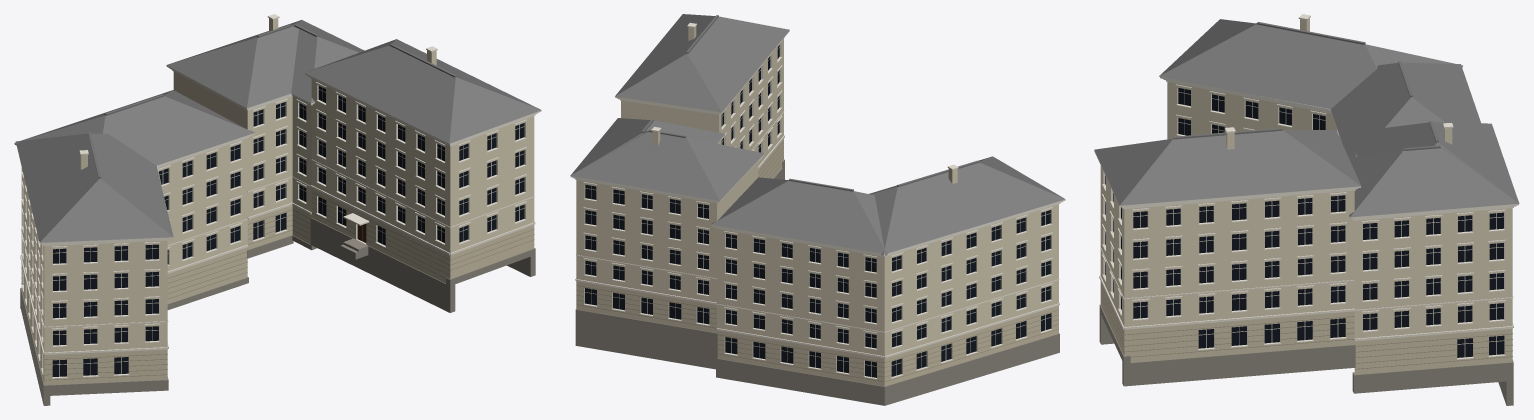
The model's file is suvorova27.glb.
3 renders of one model, left to right at view 1: azimuth 30°, elevation 25°; view 2: azimuth 150°, elevation 25°; view 3: azimuth 270°, elevation 25°, orthographic. The views are drawn at different scales.
Visible parts, largest first — view 1: suvorova27_wall, suvorova27_roof, suvorova27_trim, suvorova27_glass, suvorova27_wall2, suvorova27_stone, suvorova27_wall3; view 2: suvorova27_wall, suvorova27_roof, suvorova27_glass, suvorova27_trim, suvorova27_stone, suvorova27_wall2, suvorova27_wall3; view 3: suvorova27_roof, suvorova27_wall, suvorova27_glass, suvorova27_trim, suvorova27_wall2, suvorova27_stone, suvorova27_wall3.
Part boxes in pixels (<box>): suvorova27_wall: <box>21,18,534,352</box>; suvorova27_roof: <box>14,20,541,242</box>; suvorova27_trim: <box>14,14,541,378</box>; suvorova27_glass: <box>52,86,524,376</box>; suvorova27_wall2: <box>21,188,534,385</box>; suvorova27_stone: <box>20,217,535,405</box>; suvorova27_wall3: <box>21,192,534,380</box>; suvorova27_wall: <box>576,26,1058,356</box>; suvorova27_roof: <box>570,14,1065,254</box>; suvorova27_glass: <box>585,45,1050,377</box>; suvorova27_trim: <box>570,23,1065,379</box>; suvorova27_stone: <box>575,159,1059,405</box>; suvorova27_wall2: <box>576,139,1058,386</box>; suvorova27_wall3: <box>576,142,1058,381</box>; suvorova27_roof: <box>1094,19,1519,217</box>; suvorova27_wall: <box>1100,18,1512,338</box>; suvorova27_glass: <box>1105,88,1504,357</box>; suvorova27_trim: <box>1094,14,1518,359</box>; suvorova27_wall2: <box>1100,281,1512,374</box>; suvorova27_stone: <box>1099,304,1513,405</box>; suvorova27_wall3: <box>1100,285,1512,369</box>.
Size of the model in its own units: 54.47 by 29.52 by 39.64.
